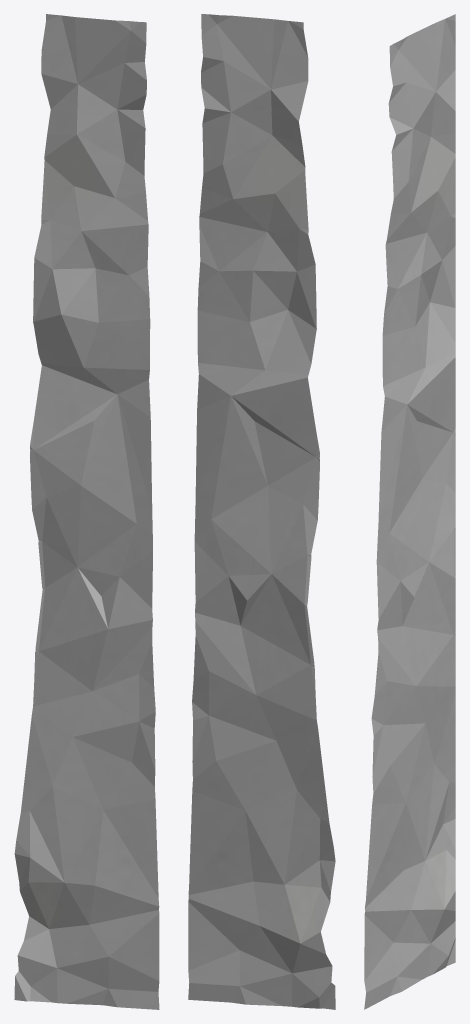
The picture shows the model from 3 angles, left to right: view 1: azimuth 30°, elevation 25°; view 2: azimuth 210°, elevation 25°; view 3: azimuth 270°, elevation 25°; orthographic projection. The views are drawn at different scales.
Size of the model in its own units: 0.0883 by 0.8373 by 0.0721.
1 material, 1 textured.
